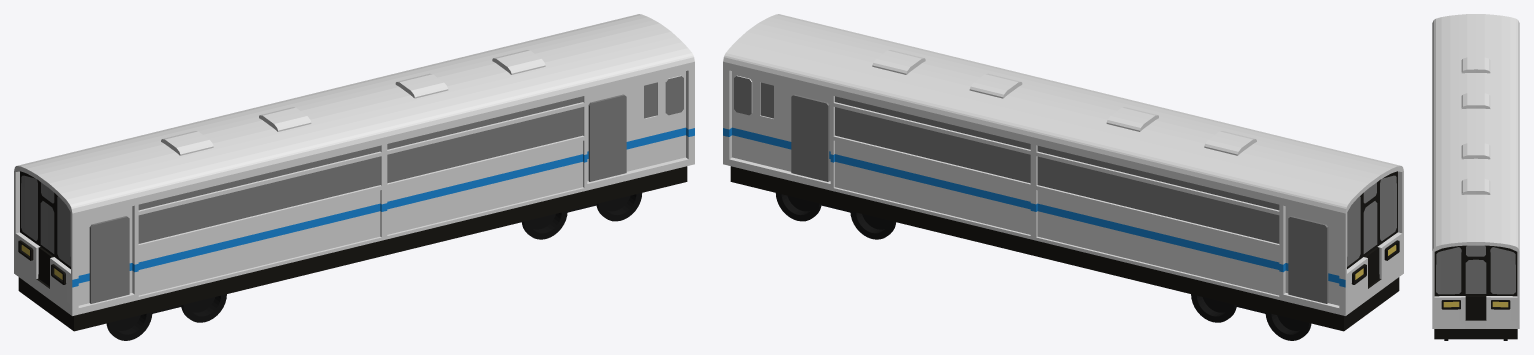
File: traintiny.glb
3 views of the same model, side by side, from view 1: azimuth 30°, elevation 25°; view 2: azimuth 150°, elevation 25°; view 3: azimuth 270°, elevation 25° (orthographic). The views are drawn at different scales.
Parts seen in each view (by area): view 1: BeginnerTrain; view 2: BeginnerTrain; view 3: BeginnerTrain.
Part boxes in pixels (x1,y1,x2,y2): BeginnerTrain: (14,14,694,340); BeginnerTrain: (723,14,1403,340); BeginnerTrain: (1432,14,1519,340).
Bounding box in the file's own units: 14.1 × 3.58 × 2.27.
